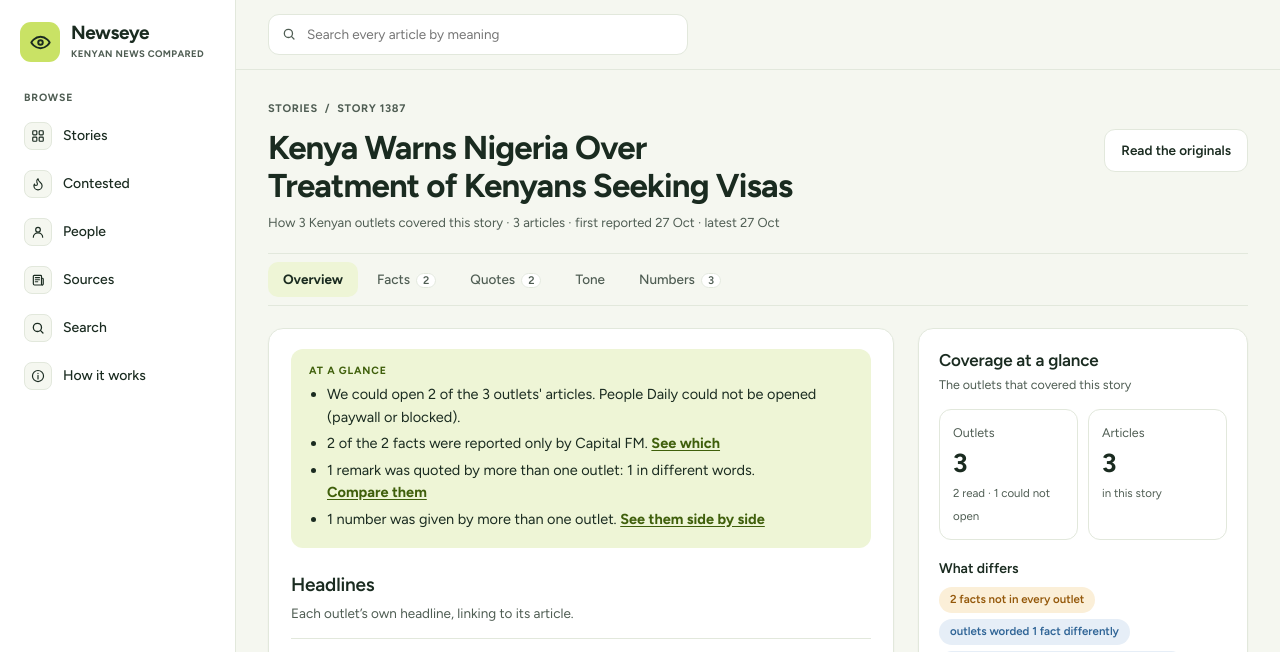
a story page › switches tabs in place, with the facts table naming only outlets it could read
The image size is (1280, 652).
What coordinates should you click on to do the following:
click the tab "Facts2"
I would click on:
 (407, 279)
Its box is [362, 262, 451, 297].
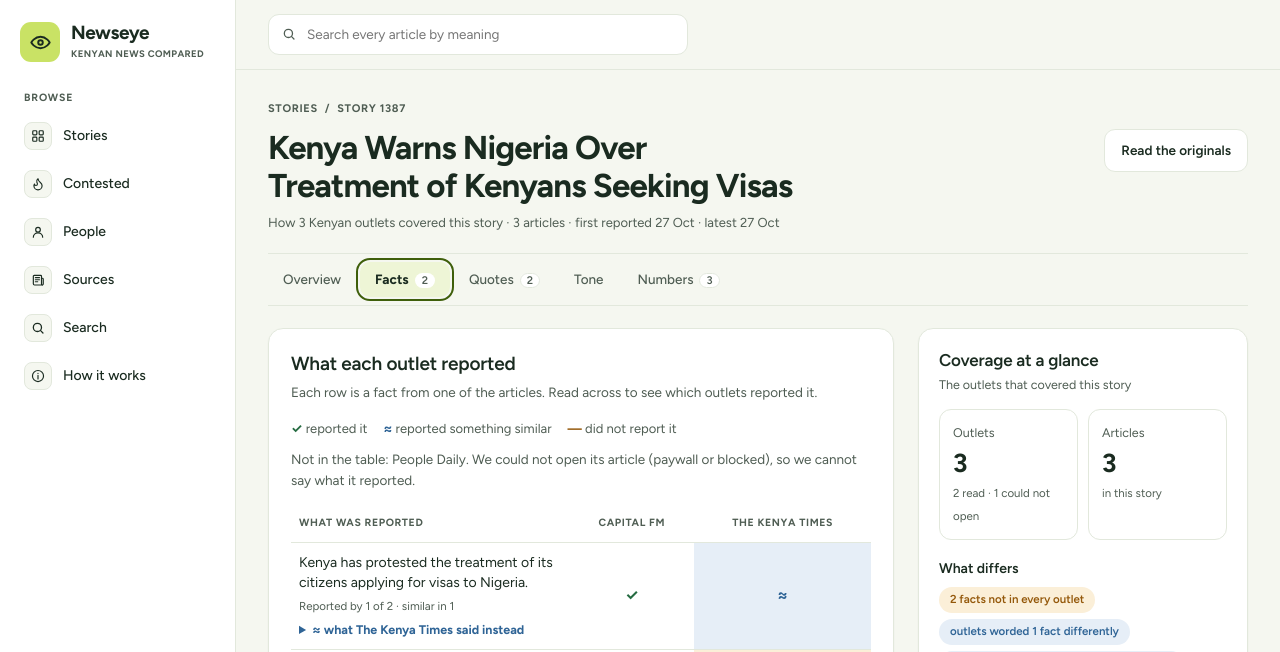
Result: the column headings read "What was reported", "Capital FM", "The Kenya Times", in this order at [291, 505, 569, 542]; [569, 505, 694, 542]; [694, 505, 871, 542]
Result: the text "Not in the table: People Daily" is shown at [291, 449, 871, 491]
